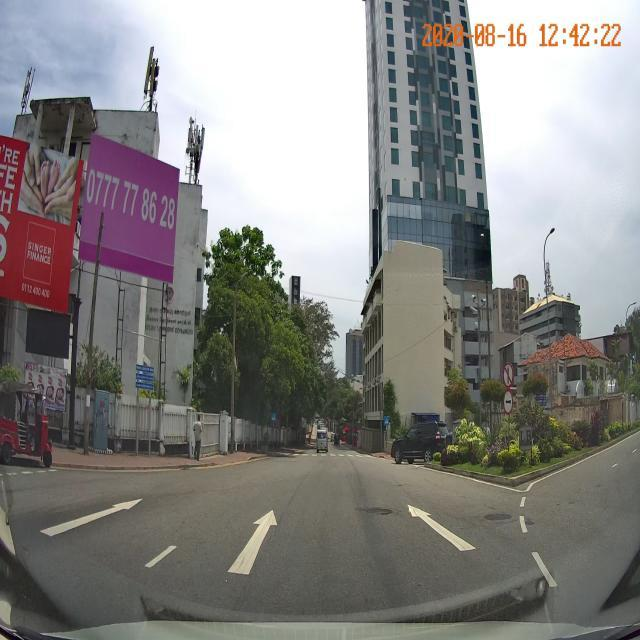forward: (132, 486, 321, 599), (11, 478, 169, 557), (371, 487, 502, 582)
